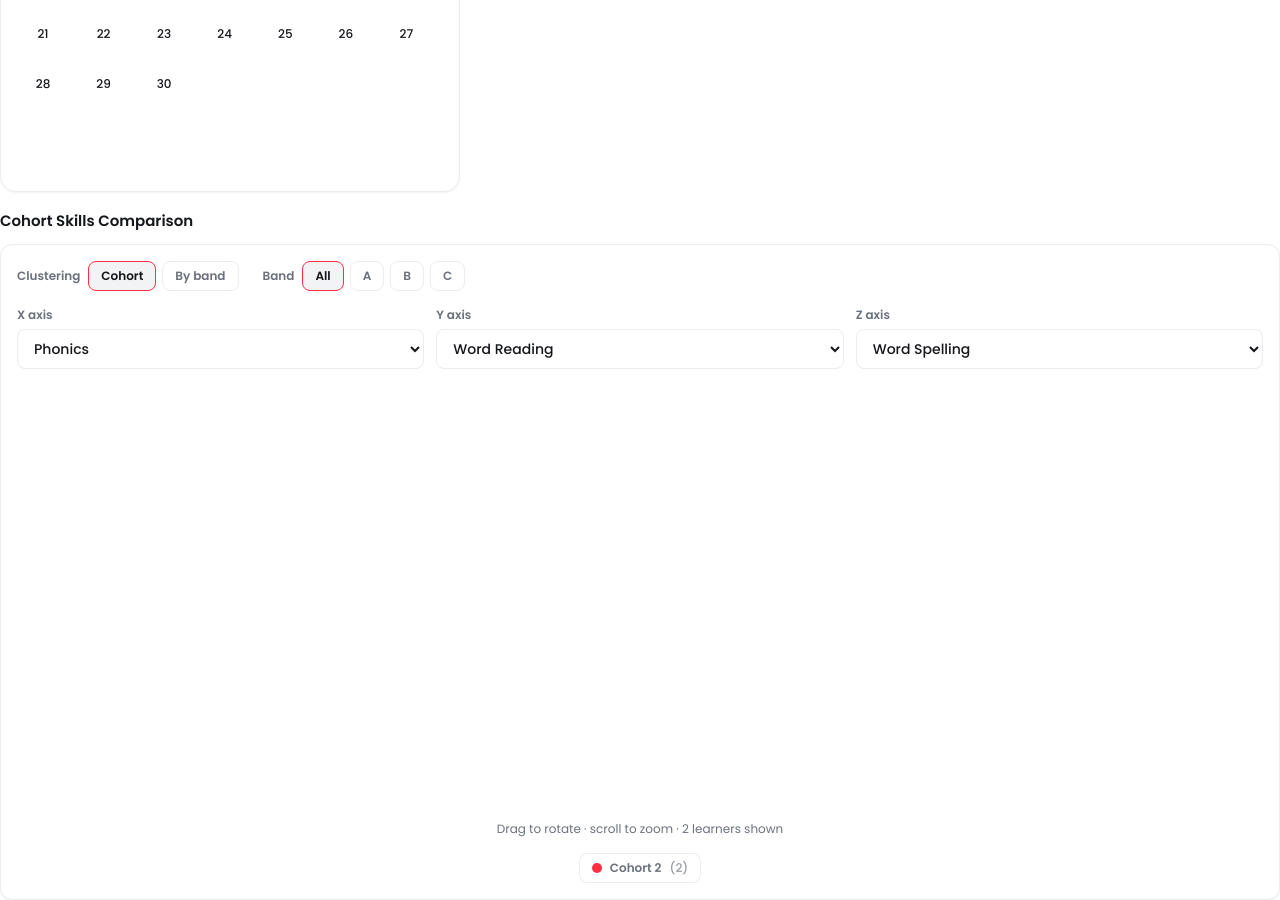
Test: UT-2.54: the overlay is fetched by the caseload uuid, not the cohort student id
(page scrolled)
Click the button "Cohort 2 (2)": [640, 868] box top-left (579, 854), bottom-right (701, 884)
(page scrolled)
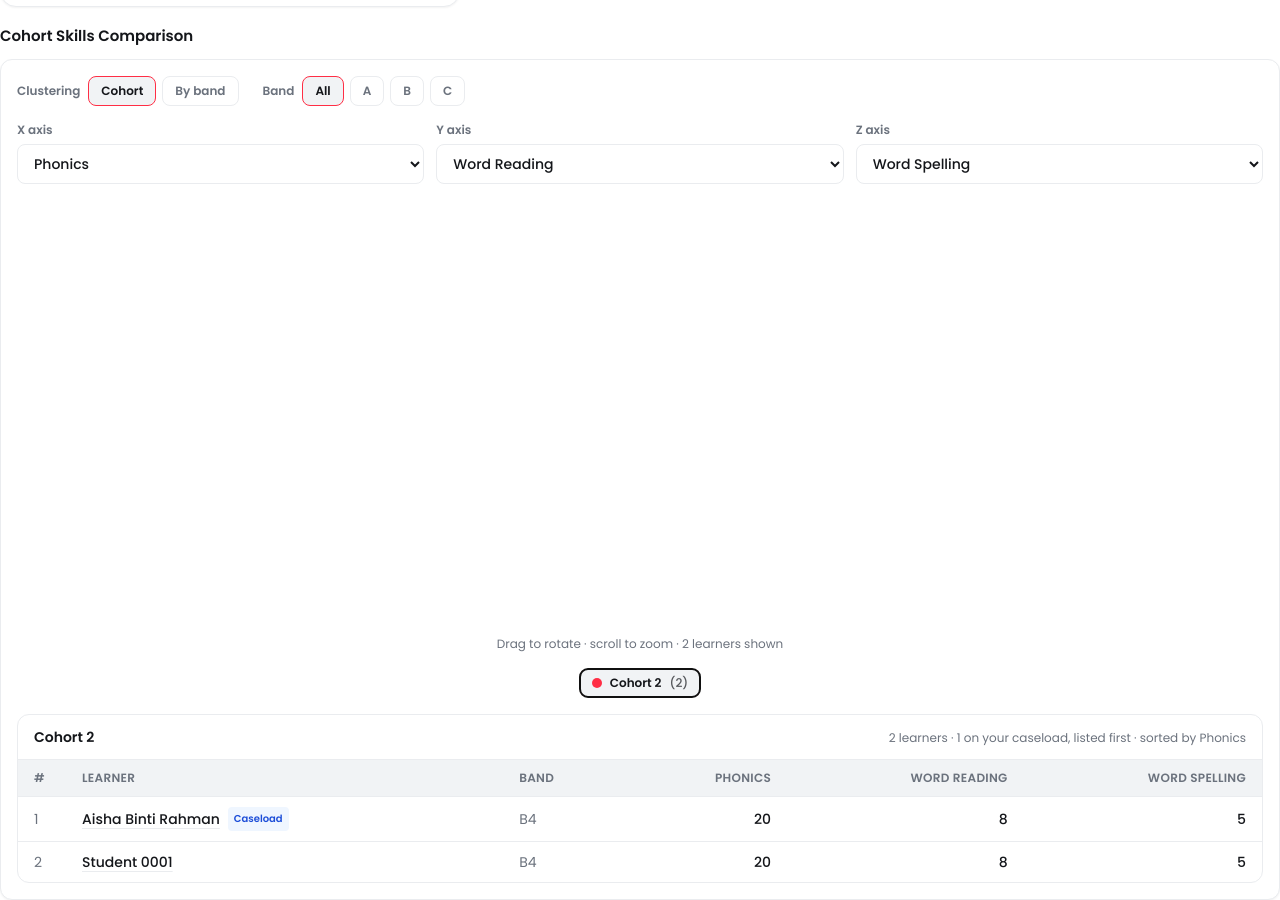
Click the button "Aisha Binti Rahman": [151, 820] box top-left (82, 810), bottom-right (220, 830)
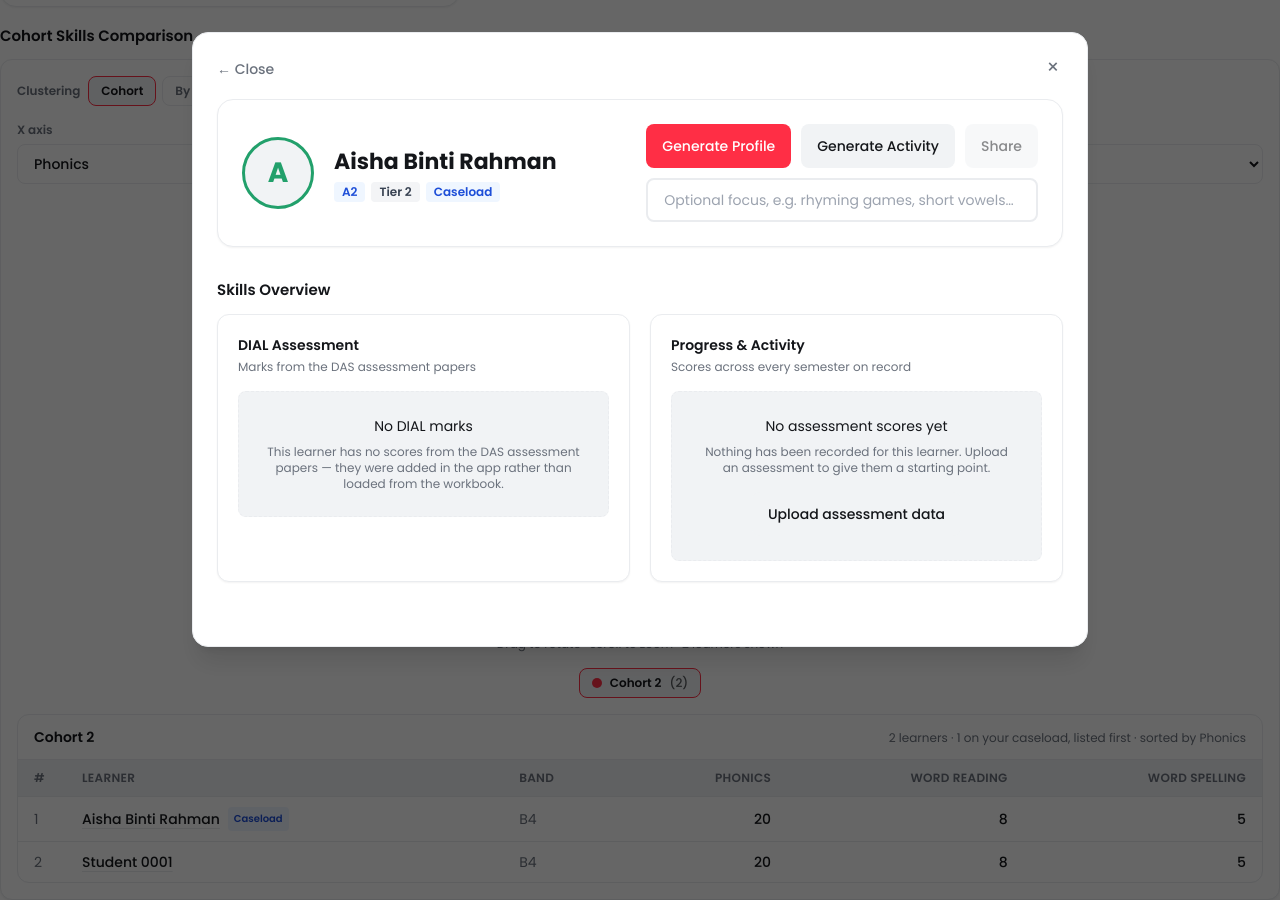
Check: the dialog is shown, box top-left (192, 32), bottom-right (1088, 646)
